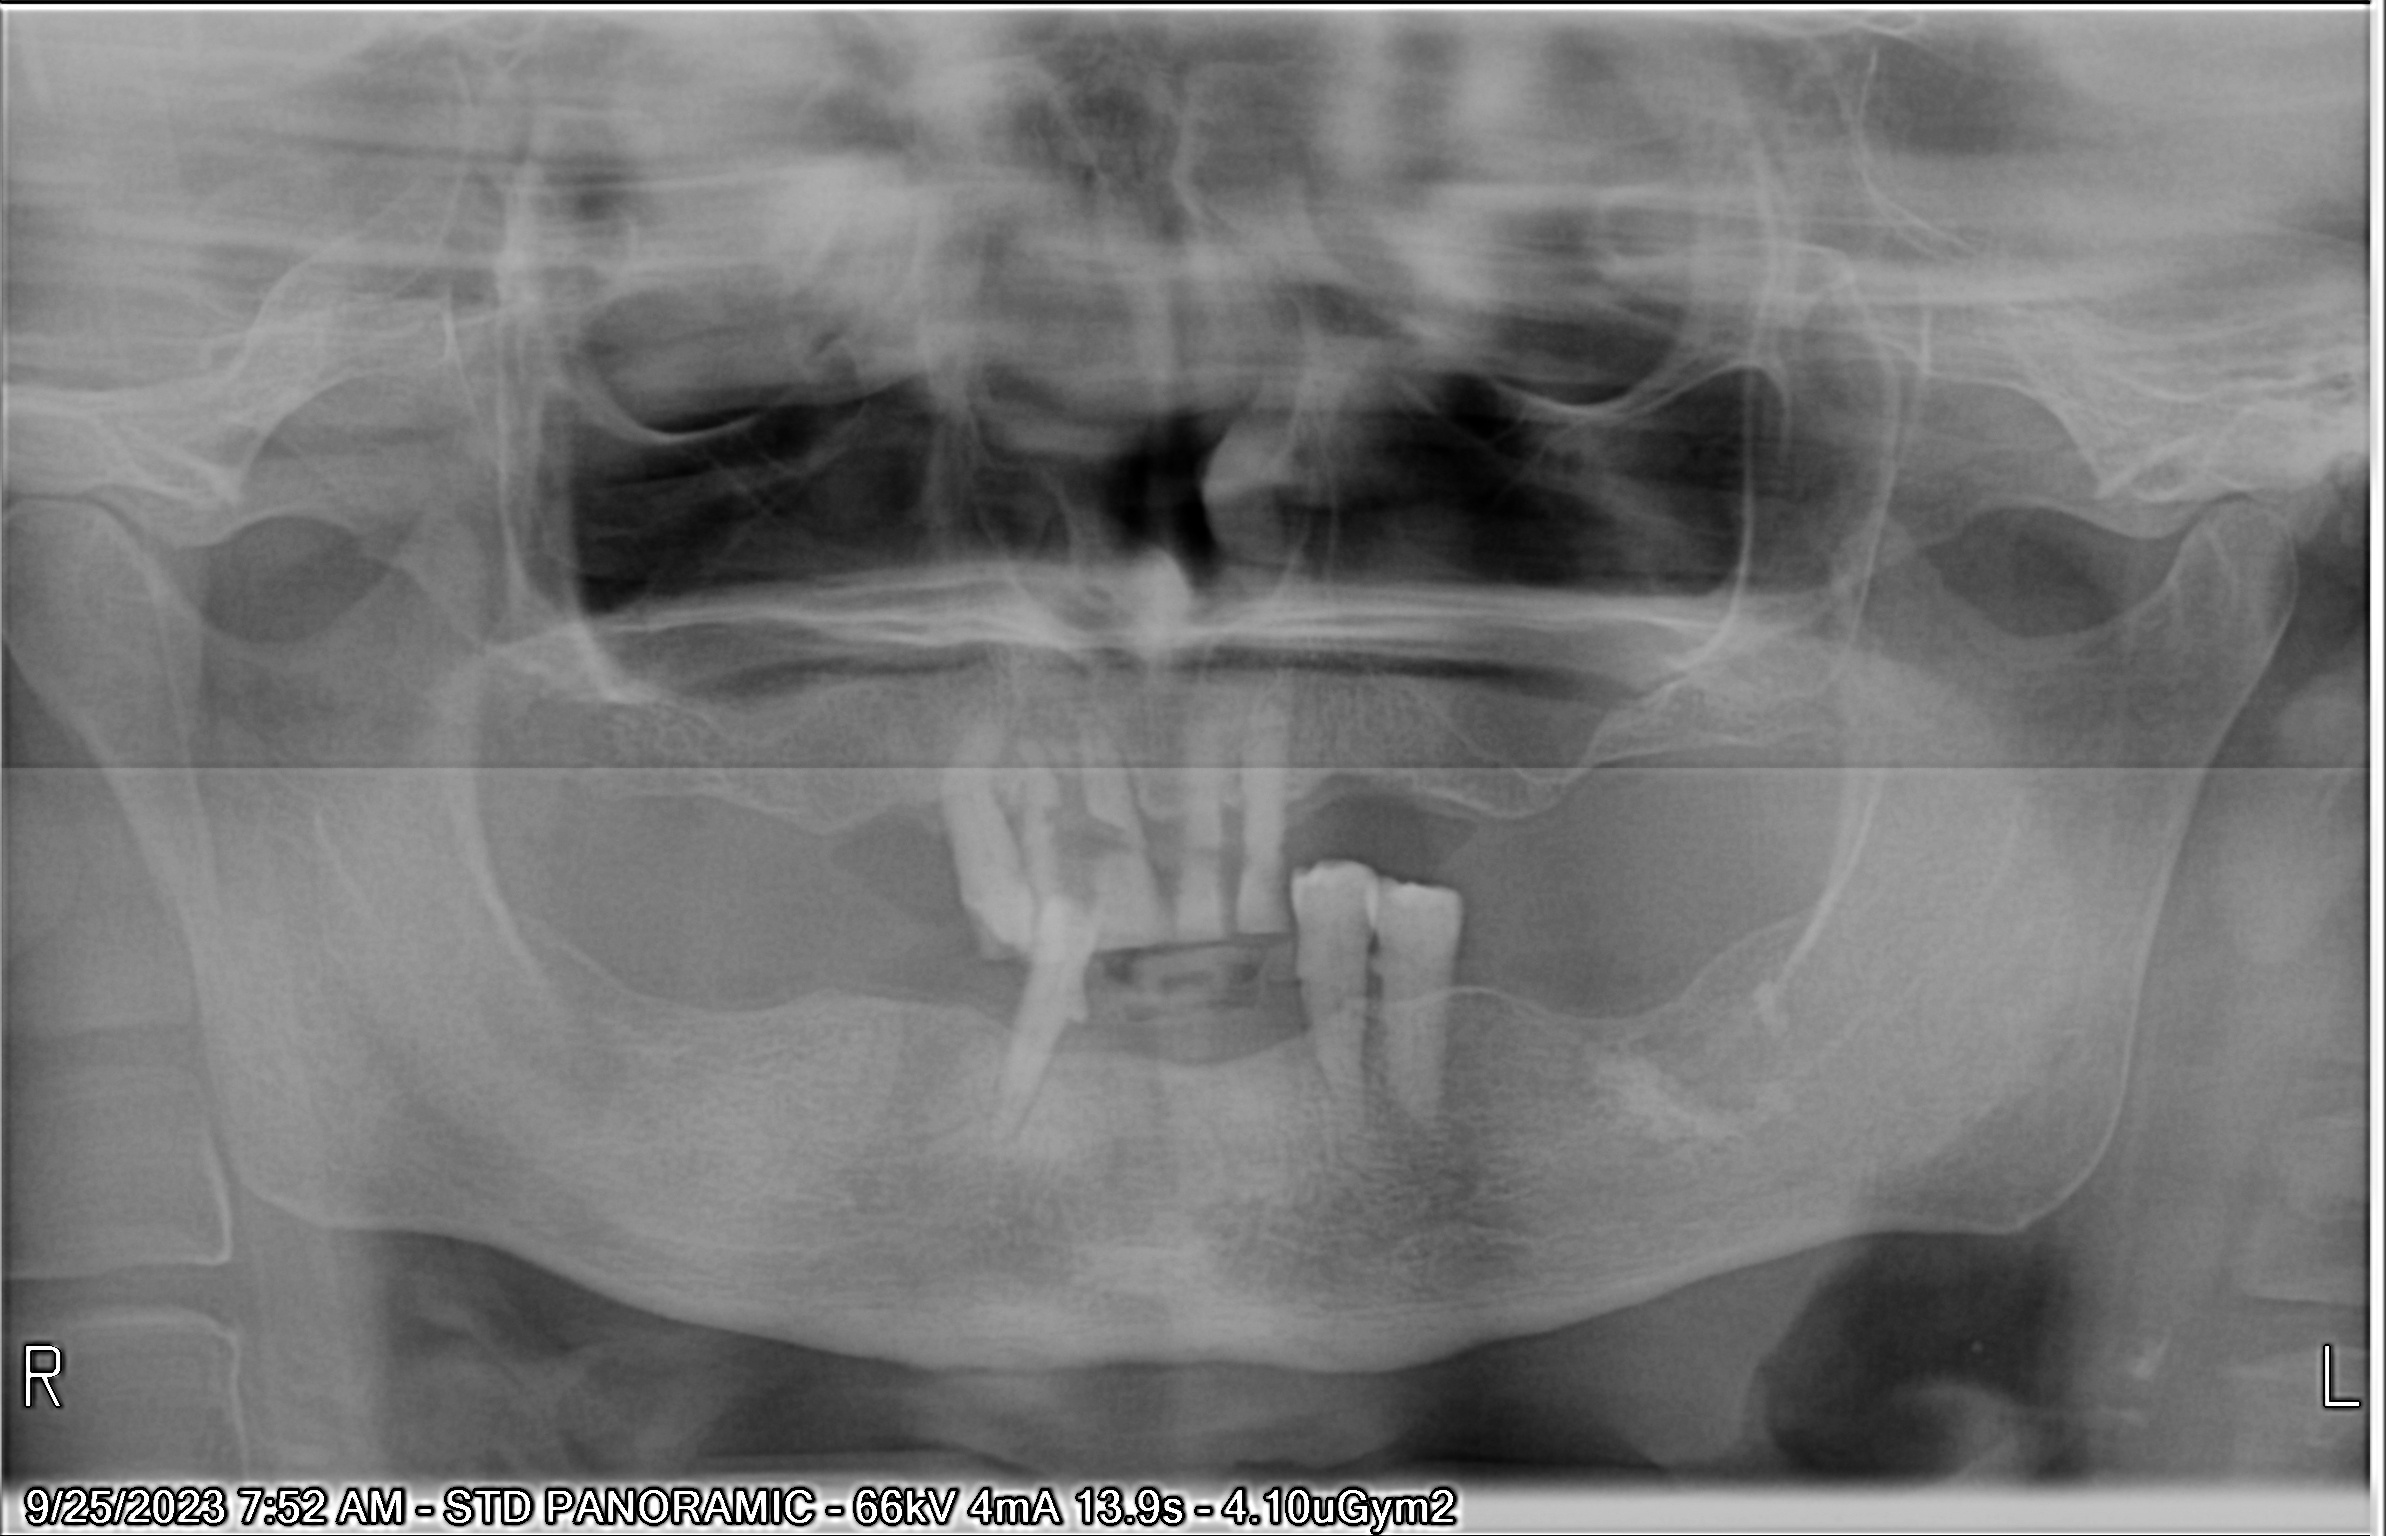BON: (650, 437, 2049, 1465), (617, 437, 1936, 1491), (456, 438, 1506, 1489), (574, 336, 1835, 1200), (544, 339, 1729, 1209), (503, 339, 1598, 1193), (464, 353, 1508, 1232)
CAR: (497, 351, 1642, 1228), (430, 411, 1459, 1378)
